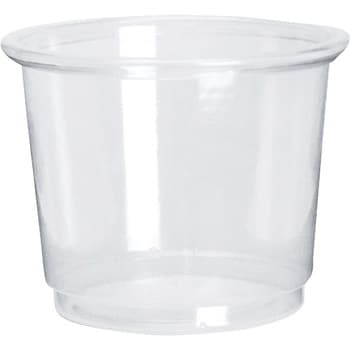plastic_glass: (1, 11, 350, 341)
